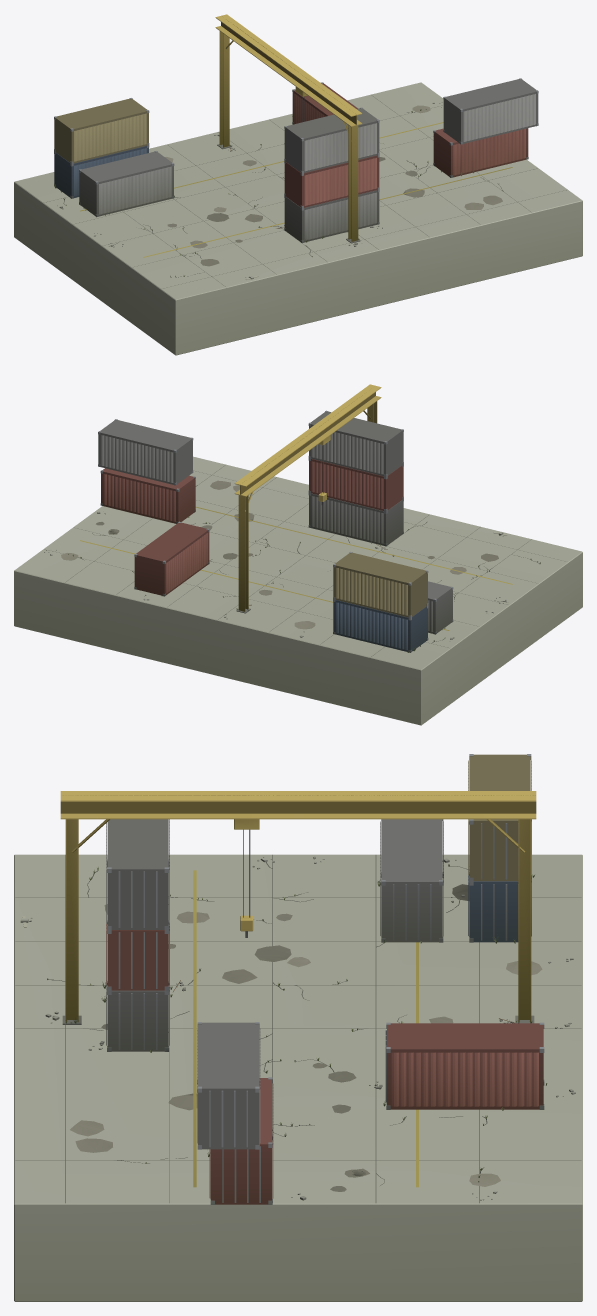
Rendered from mark_yard.glb.
3 renders of one model, top to bottom at view 1: azimuth 30°, elevation 25°; view 2: azimuth 150°, elevation 25°; view 3: azimuth 270°, elevation 25°, orthographic. The views are drawn at different scales.
Visible parts, largest first — view 1: yard, cargo, steel; view 2: yard, cargo, steel; view 3: yard, cargo, steel.
Boxes of the visible parts, x1=… form: yard: x1=14, y1=82, x2=582, y2=355; cargo: x1=54, y1=79, x2=538, y2=242; steel: x1=54, y1=14, x2=538, y2=243; yard: x1=14, y1=456, x2=582, y2=725; cargo: x1=98, y1=411, x2=452, y2=651; steel: x1=98, y1=384, x2=453, y2=652; yard: x1=14, y1=854, x2=582, y2=1301; cargo: x1=106, y1=754, x2=543, y2=1204; steel: x1=60, y1=754, x2=544, y2=1204.
Bounding box in the file's own units: 32.63 × 13.8 × 22.
